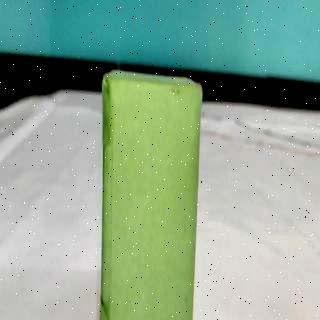greenbox: (100, 68, 204, 320)
